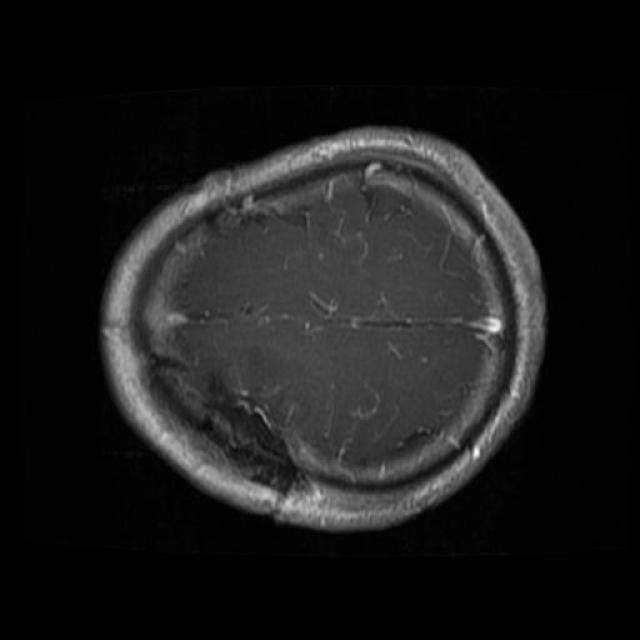Glioma: (151, 353, 298, 493)
